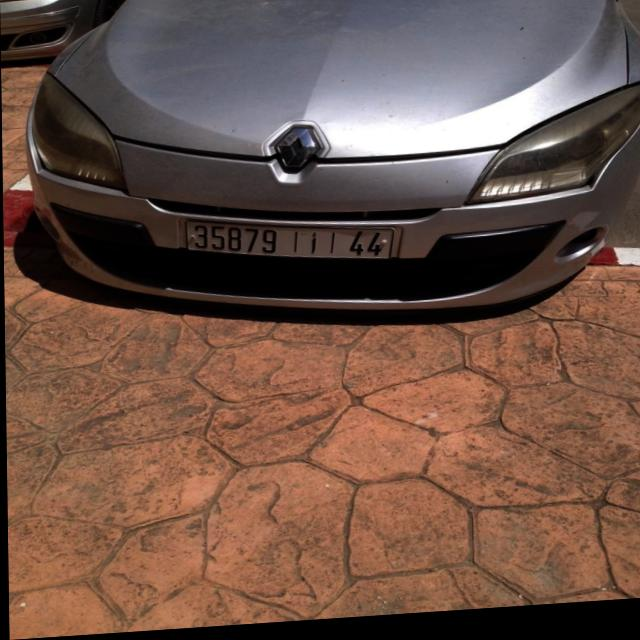License-Plate: (184, 224, 393, 264)
